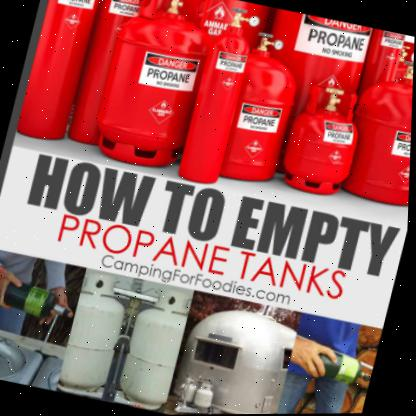gas-tank: (77, 0, 225, 183), (199, 21, 320, 203), (271, 60, 380, 202), (50, 253, 146, 402), (116, 273, 210, 414), (349, 62, 413, 218)
